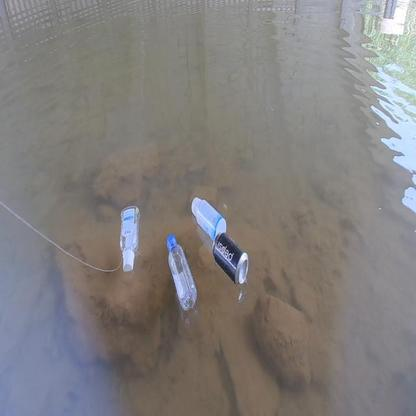can: (213, 233, 247, 285)
plastic bottle: (165, 235, 196, 310), (192, 197, 226, 237), (119, 207, 140, 271)
